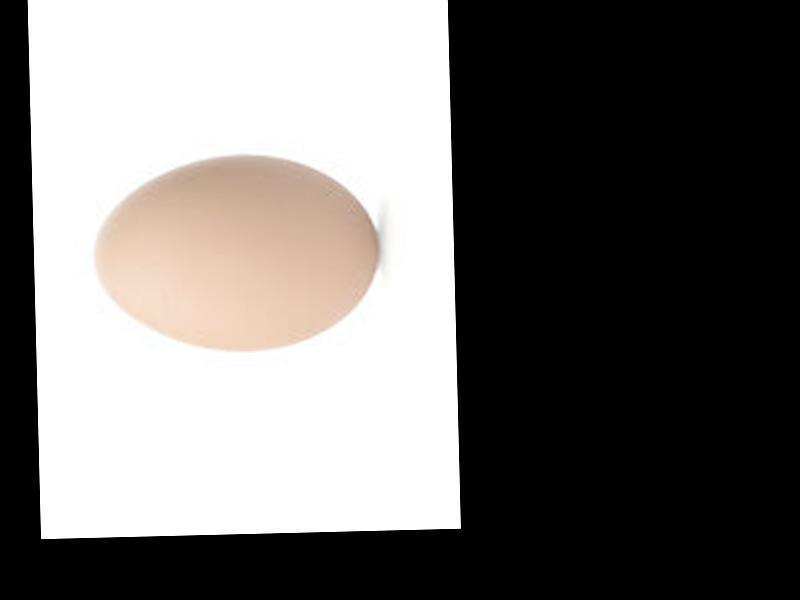Eggs: (94, 152, 383, 352)
